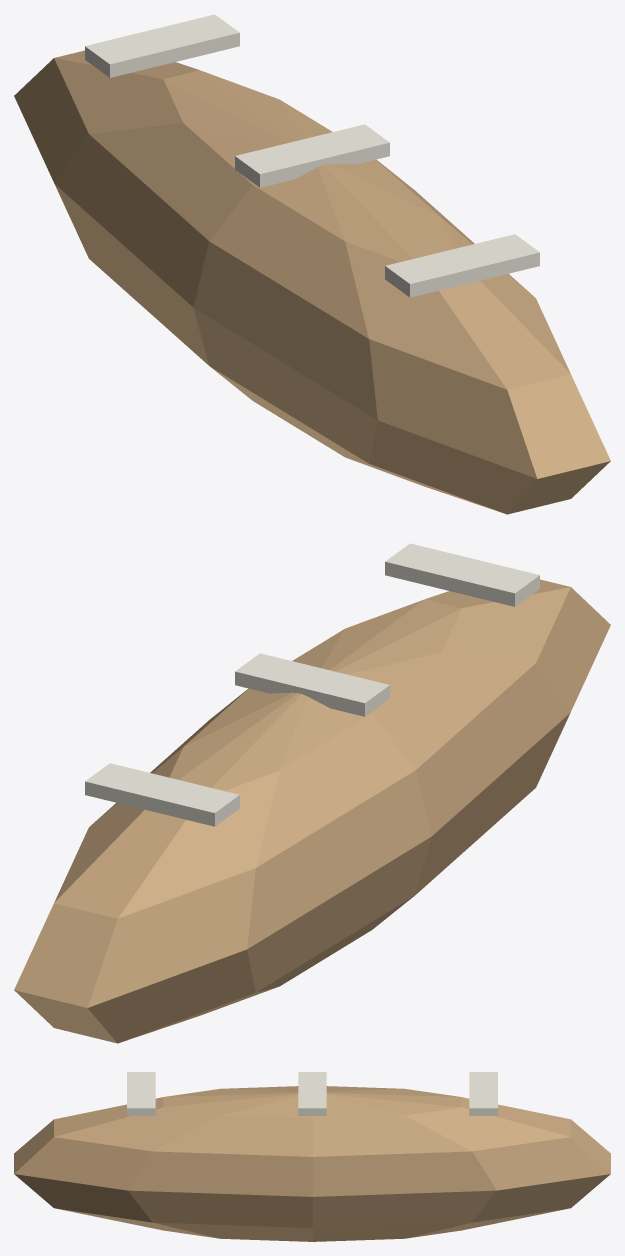
Rendered from supermarket-operations-baguette-c7205a06__26869.glb.
3 renders of one model, top to bottom at view 1: azimuth 30°, elevation 25°; view 2: azimuth 150°, elevation 25°; view 3: azimuth 270°, elevation 25°, orthographic. The views are drawn at different scales.
Parts seen in each view (by area): view 1: baguette; view 2: baguette; view 3: baguette.
Part boxes in pixels (x1,y1,x2,y2): baguette: (14,14,610,514); baguette: (14,543,610,1043); baguette: (14,1072,610,1241).
Size of the model in its own units: 0.11 by 0.112 by 0.4185.
